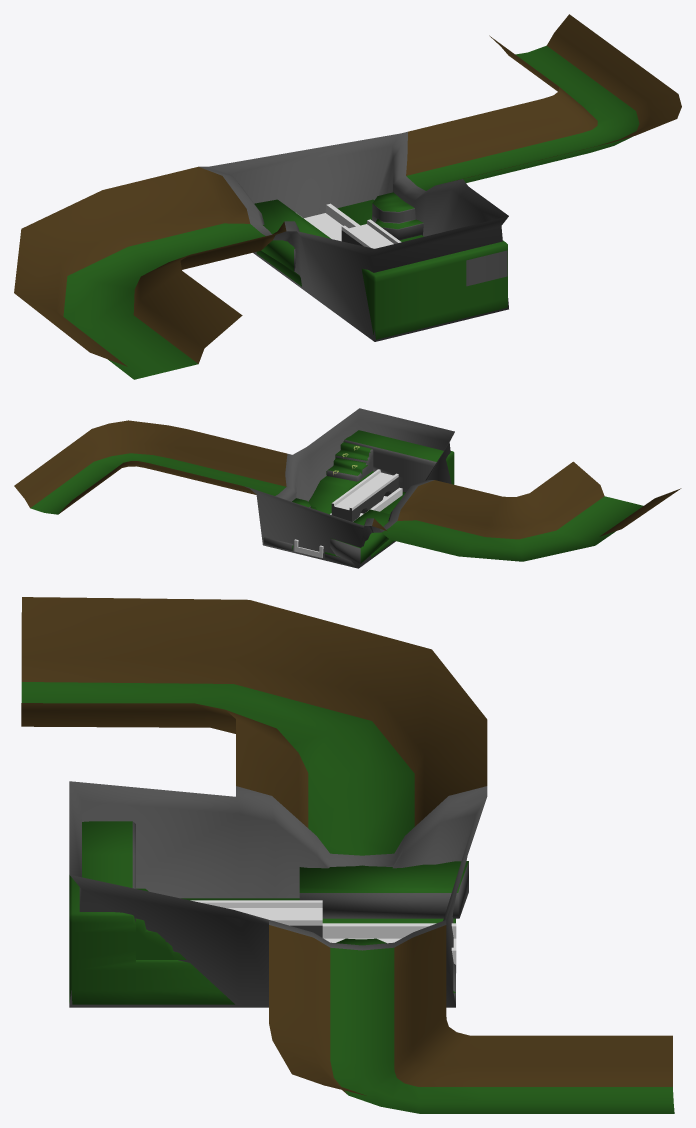
File: Lvl0_Map.fbx
The picture shows the model from 3 angles, top to bottom: view 1: azimuth 30°, elevation 25°; view 2: azimuth 150°, elevation 25°; view 3: azimuth 270°, elevation 25°; orthographic projection. The views are drawn at different scales.
Parts seen in each view (by area): view 1: Plane.002, Plane.001, Plane, Cube, Cube.004, Plane.003, Cube.003, Cube.002; view 2: Plane.002, Plane, Plane.001, Cube, Cube.005, Cube.004, Cube.003, Cube.001, Cube.002; view 3: Plane.002, Plane, Plane.001, Cube, Cube.004, Cube.003, Cube.002, Cube.005.
Part boxes in pixels (box(x1,y1,x2,y2)): Plane.002: box(14, 166, 286, 379); Plane.001: box(199, 131, 508, 341); Plane: box(406, 14, 681, 190); Cube: box(256, 199, 507, 339); Cube.004: box(254, 199, 330, 271); Plane.003: box(372, 192, 423, 240); Cube.003: box(341, 219, 401, 248); Cube.002: box(296, 203, 359, 241); Plane.002: box(372, 461, 681, 561); Plane: box(14, 420, 287, 514); Plane.001: box(245, 408, 454, 568); Cube: box(263, 430, 454, 566); Cube.005: box(326, 442, 373, 481); Cube.004: box(330, 509, 390, 563); Cube.003: box(331, 486, 375, 521); Cube.001: box(355, 469, 398, 504); Cube.002: box(294, 487, 402, 558); Plane.002: box(21, 597, 487, 855); Plane: box(269, 925, 674, 1113); Plane.001: box(69, 781, 487, 1007); Cube: box(69, 821, 455, 1004); Cube.004: box(299, 861, 468, 918); Cube.003: box(229, 900, 322, 937); Cube.002: box(322, 923, 456, 972); Cube.005: box(135, 888, 186, 959).
Bounding box in the file's own units: 3650 × 459 × 2045.
